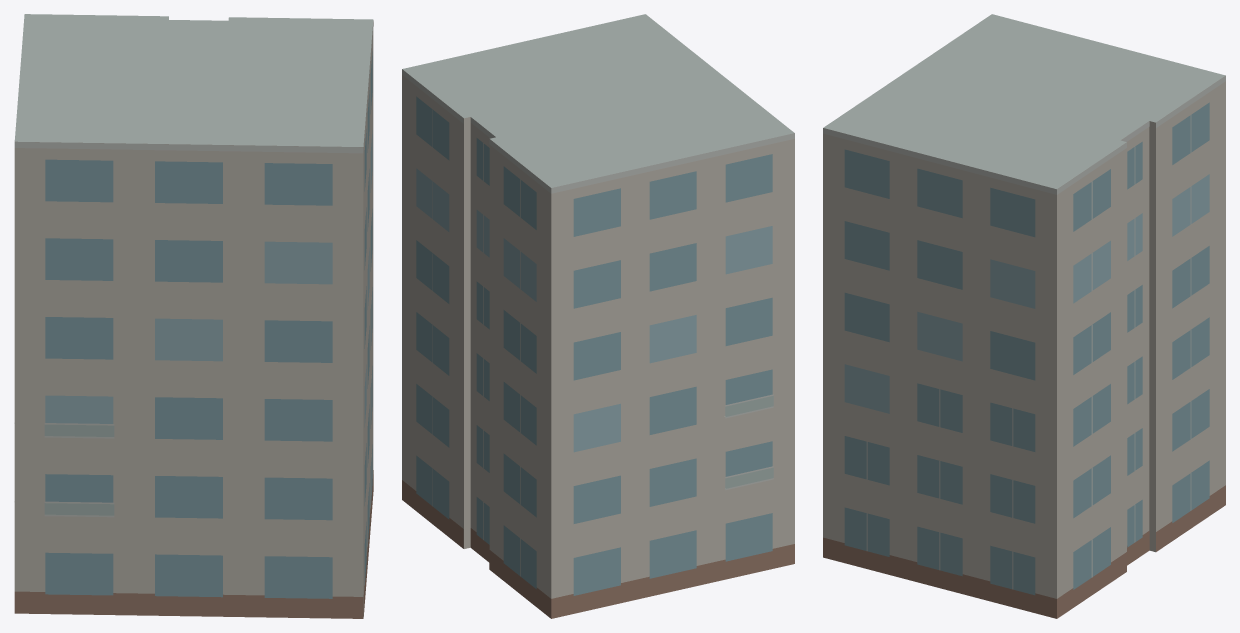
The model's file is survey-upis-32726596.glb.
3 views of the same model, side by side, from view 1: azimuth 30°, elevation 25°; view 2: azimuth 150°, elevation 25°; view 3: azimuth 270°, elevation 25° (orthographic). The views are drawn at different scales.
Visible parts, largest first — view 1: survey-upis-32726596.tmp; view 2: survey-upis-32726596.tmp; view 3: survey-upis-32726596.tmp.
Boxes of the visible parts, left/top/right/bottom form: survey-upis-32726596.tmp: left=14, top=14, right=373, bottom=618; survey-upis-32726596.tmp: left=402, top=14, right=794, bottom=618; survey-upis-32726596.tmp: left=823, top=14, right=1225, bottom=618.
Size of the model in its own units: 16.11 by 18.4 by 15.64.
